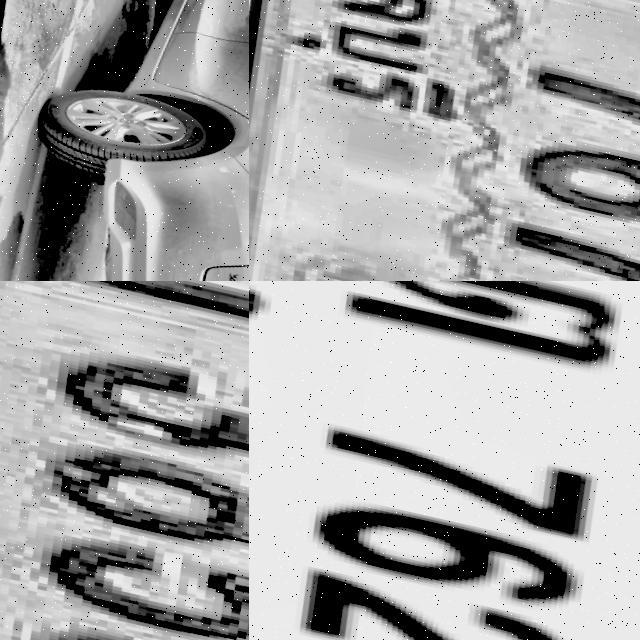license-plate: (249, 281, 640, 640), (249, 0, 640, 281), (0, 281, 249, 640)
